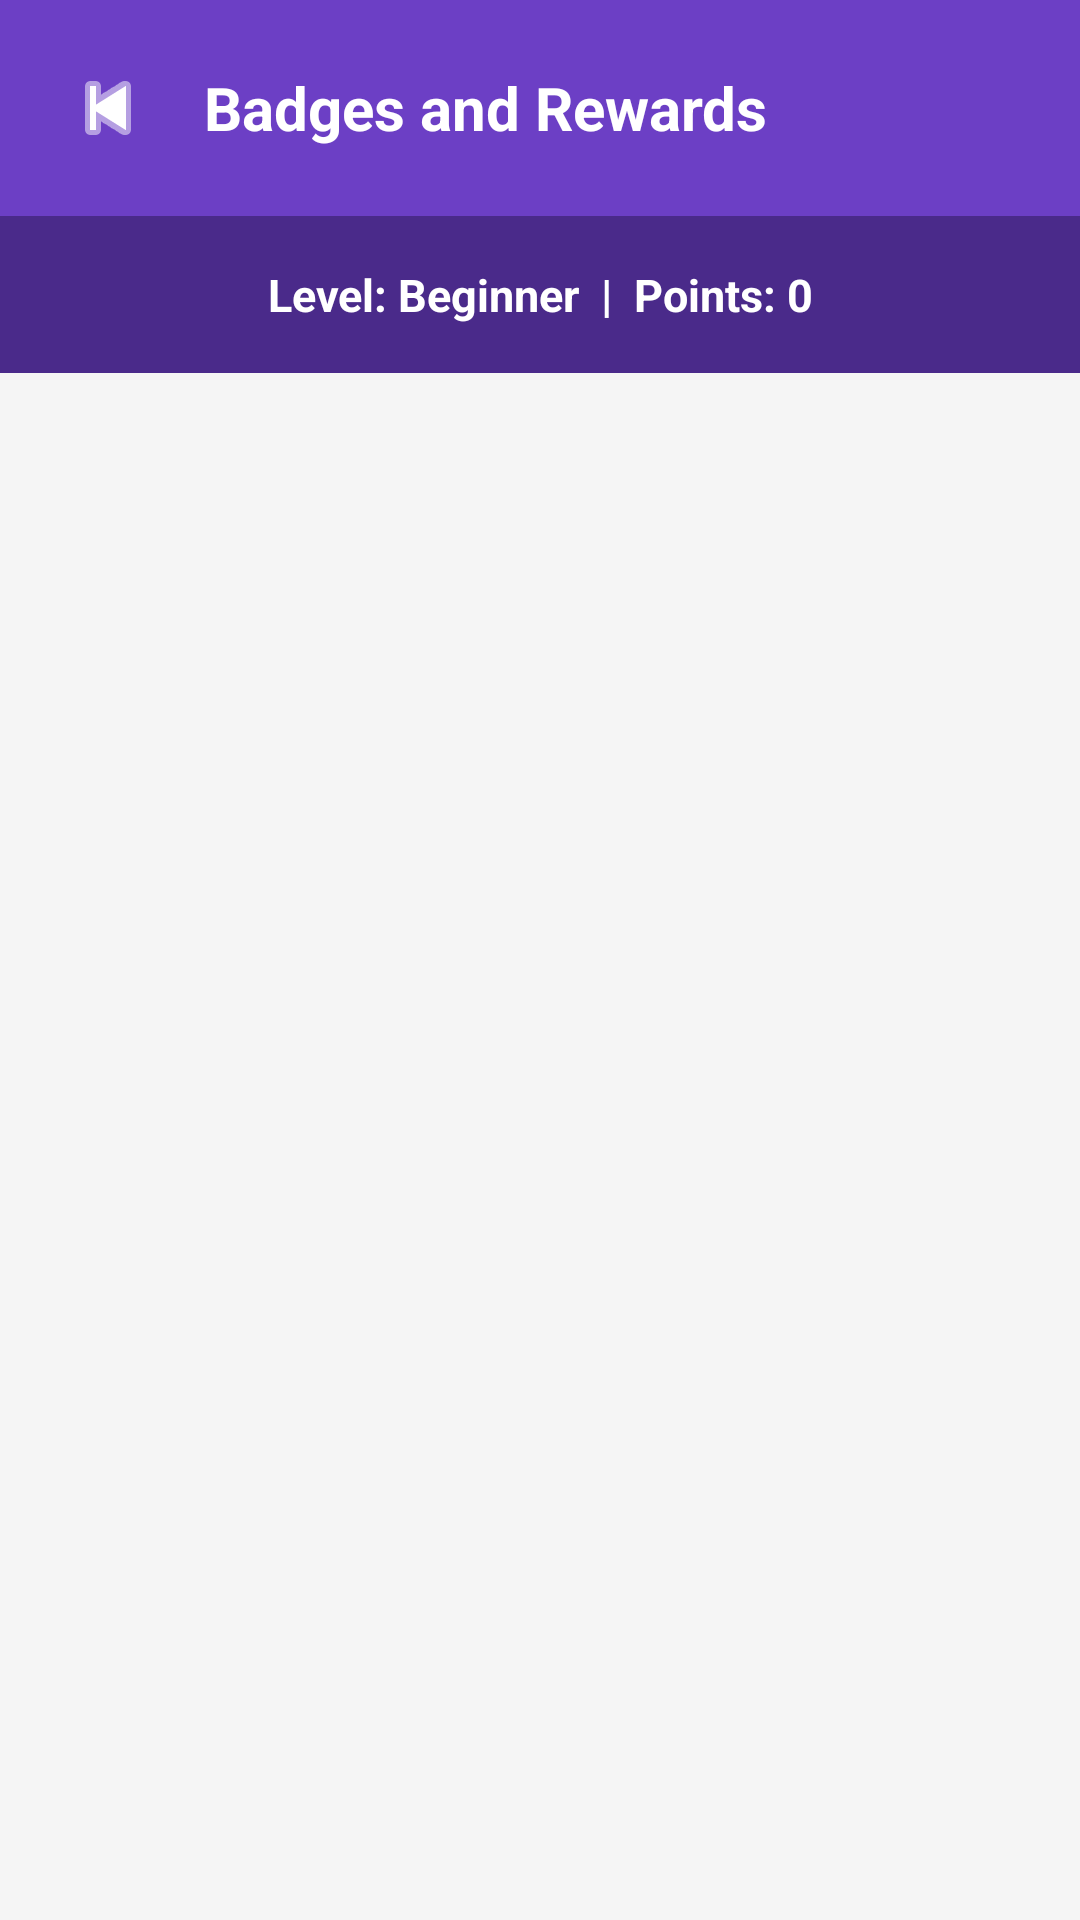

Point at icon controls on the screen. Image size 1080x1920, points as [x,y].
previous: [108,108]
